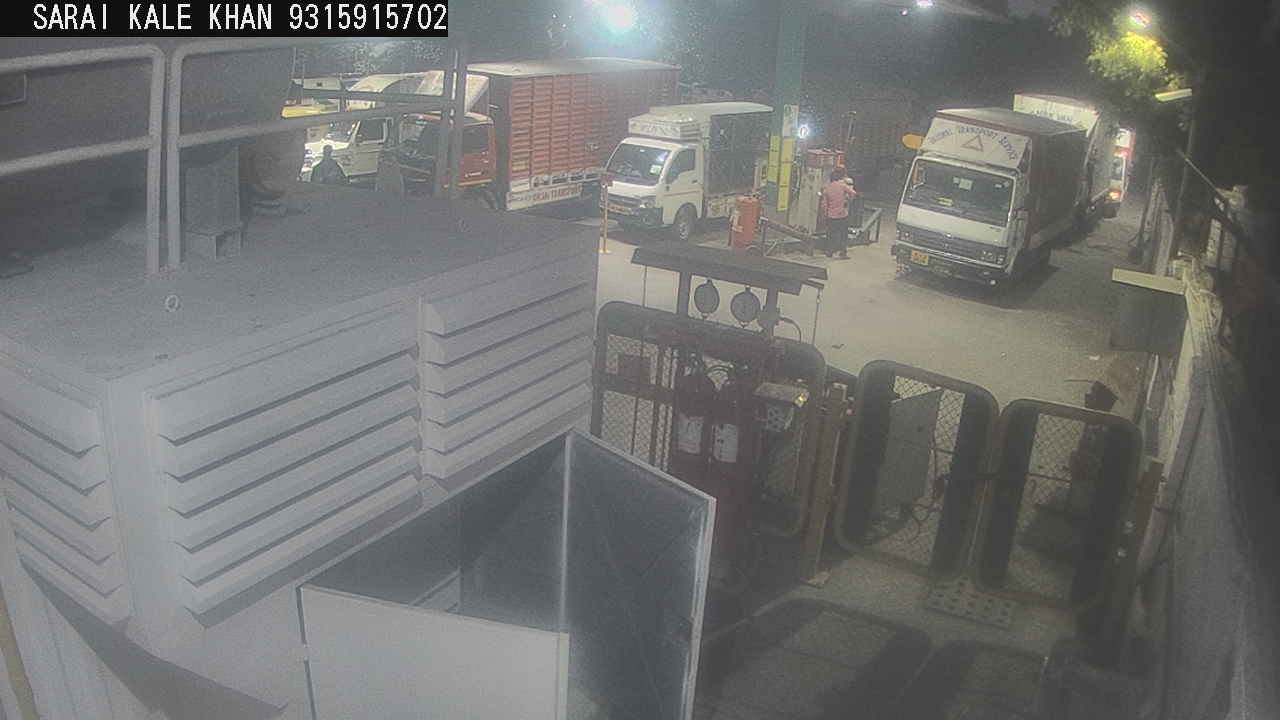Auto: (270, 93, 343, 157)
HMV: (882, 95, 1096, 308), (449, 52, 687, 226), (586, 90, 784, 251), (788, 63, 940, 202), (285, 64, 446, 193), (1007, 82, 1120, 248), (1095, 103, 1139, 222)
Others: (826, 157, 860, 263)
Others Other: (597, 163, 619, 260)
